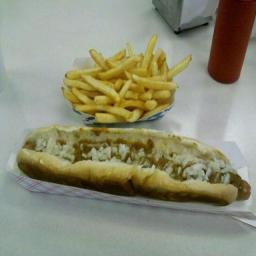hotdog: (26, 140, 252, 209)
